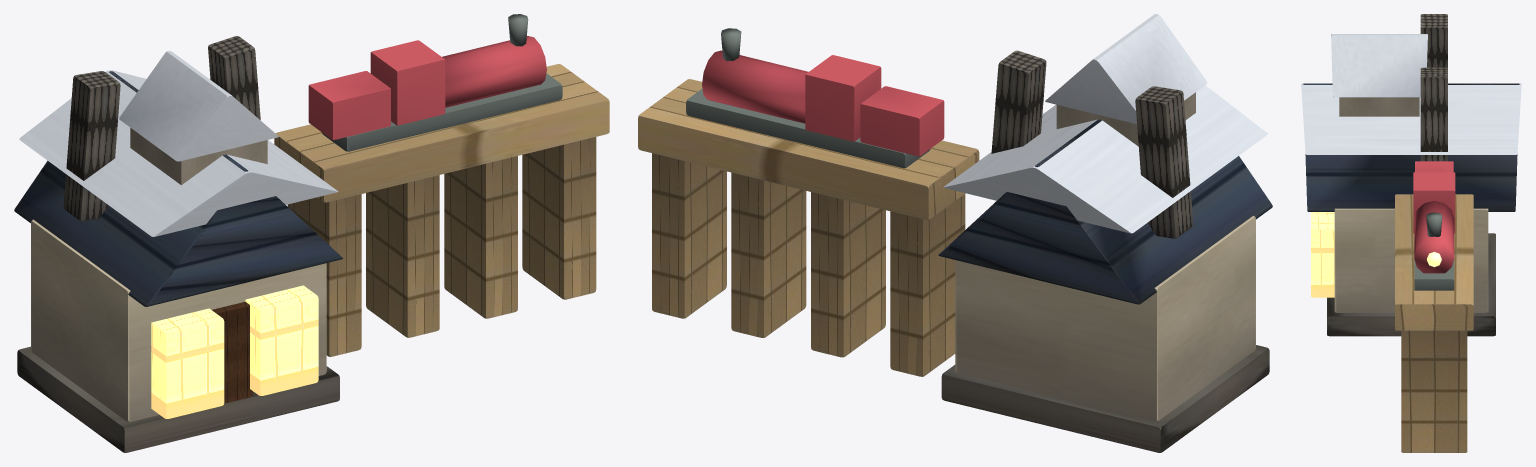
Rendered from env_hogsmeade.glb.
3 views of the same model, side by side, from view 1: azimuth 30°, elevation 25°; view 2: azimuth 150°, elevation 25°; view 3: azimuth 270°, elevation 25° (orthographic). The views are drawn at different scales.
Visible parts, largest first — view 1: HM_Wall1, HM_Roof, HM_VDeck, HM_SnowCap, HM_VPier_3, HM_VPier_1, HM_VPier_2, HM_Found, HM_DormRoof, HM_BayL, HM_BayR, HM_VPier_0 (+9 smaller); view 2: HM_Wall1, HM_Roof, HM_SnowCap, HM_VDeck, HM_VPier_2, HM_VPier_3, HM_VPier_1, HM_Found, HM_VPier_0, HM_DormRoof, HM_Chim_-1.92, TR_Boiler (+5 smaller); view 3: HM_SnowCap, HM_Roof, HM_VPier_3, HM_Wall1, HM_VDeck, HM_DormRoof, HM_Found, HM_Chim_-0.38, TR_Boiler, HM_BayR, HM_Dormer, TR_Cab (+4 smaller).
Boxes of the visible parts, left/top/right/bottom form: HM_Wall1: left=31, top=219, right=326, bottom=421; HM_Roof: left=14, top=71, right=342, bottom=306; HM_VDeck: left=274, top=64, right=609, bottom=202; HM_SnowCap: left=19, top=70, right=338, bottom=236; HM_VPier_3: left=522, top=137, right=596, bottom=299; HM_VPier_1: left=366, top=175, right=439, bottom=337; HM_VPier_2: left=444, top=156, right=517, bottom=318; HM_Found: left=17, top=346, right=339, bottom=452; HM_DormRoof: left=119, top=50, right=278, bottom=161; HM_BayL: left=151, top=308, right=224, bottom=418; HM_BayR: left=245, top=285, right=318, bottom=395; HM_VPier_0: left=287, top=194, right=361, bottom=356; HM_Wall1: left=955, top=216, right=1255, bottom=421; HM_Roof: left=938, top=119, right=1272, bottom=304; HM_SnowCap: left=943, top=85, right=1267, bottom=233; HM_VDeck: left=638, top=79, right=979, bottom=219; HM_VPier_2: left=731, top=172, right=806, bottom=337; HM_VPier_3: left=652, top=153, right=726, bottom=318; HM_VPier_1: left=811, top=192, right=885, bottom=357; HM_Found: left=941, top=345, right=1269, bottom=452; HM_VPier_0: left=890, top=194, right=965, bottom=376; HM_DormRoof: left=1045, top=14, right=1207, bottom=124; HM_Chim_-1.92: left=1135, top=86, right=1193, bottom=238; TR_Boiler: left=702, top=50, right=808, bottom=123; HM_SnowCap: left=1301, top=83, right=1521, bottom=154; HM_Roof: left=1303, top=83, right=1519, bottom=211; HM_VPier_3: left=1401, top=330, right=1467, bottom=452; HM_Wall1: left=1334, top=208, right=1488, bottom=312; HM_VDeck: left=1395, top=194, right=1473, bottom=330; HM_DormRoof: left=1331, top=34, right=1427, bottom=97; HM_Found: left=1327, top=233, right=1495, bottom=336; HM_Chim_-0.38: left=1420, top=67, right=1447, bottom=161; TR_Boiler: left=1414, top=200, right=1454, bottom=273; HM_BayR: left=1311, top=212, right=1334, bottom=297; HM_Dormer: left=1339, top=97, right=1419, bottom=116; TR_Cab: left=1413, top=172, right=1455, bottom=233.
Bounding box in the file's own units: 5.27 × 3.14 × 2.41.
Materials: 9 (7 with a texture image).
